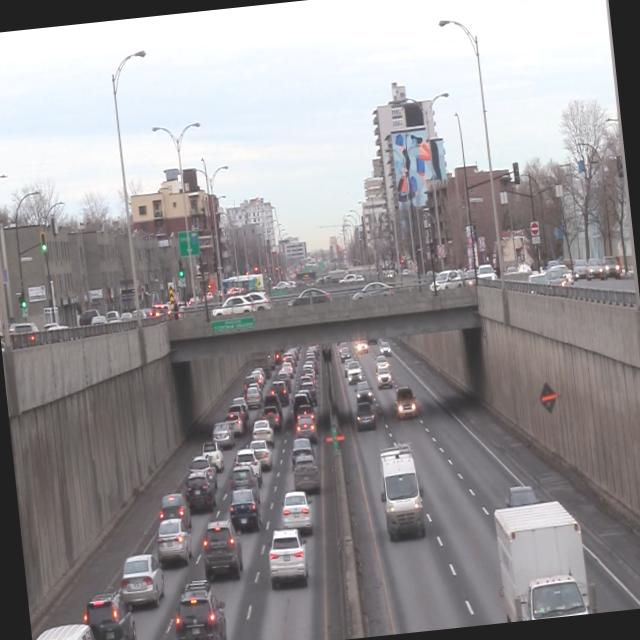Vehicle: (490, 497, 590, 622), (375, 443, 425, 542), (170, 577, 229, 640), (262, 526, 311, 590), (80, 589, 139, 640), (198, 519, 245, 581), (118, 552, 165, 610), (153, 518, 192, 566), (276, 489, 314, 534), (227, 486, 261, 534), (184, 472, 217, 512), (156, 492, 190, 529), (290, 454, 320, 493), (228, 466, 260, 498), (392, 384, 417, 420), (354, 402, 375, 431), (352, 380, 372, 403)
